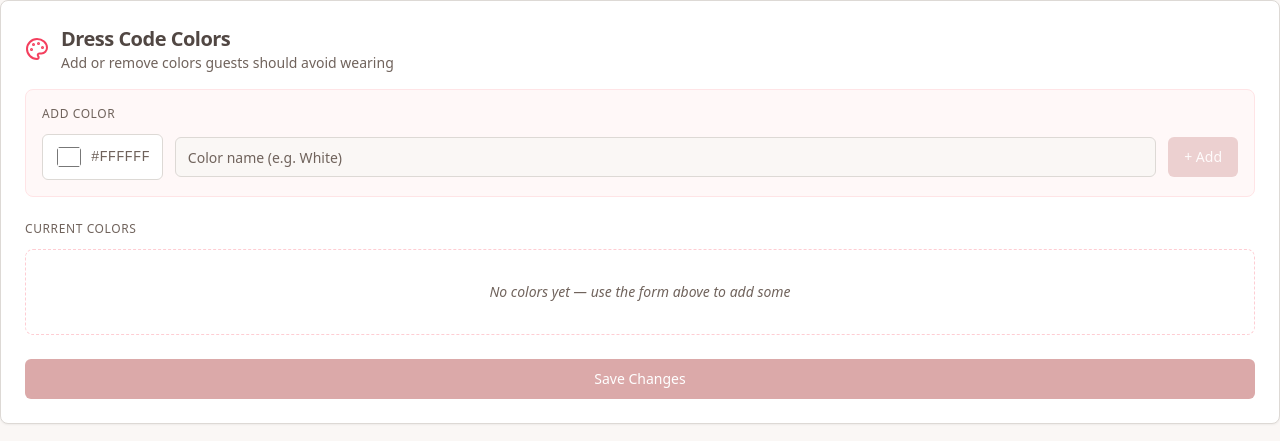
DressCodePage › enables Add button when label is typed
The width and height of the screenshot is (1280, 441).
Type "White" into the field with test id "input-new-label".
click(666, 157); type("White")  # box x1=175 y1=137 x2=1156 y2=177
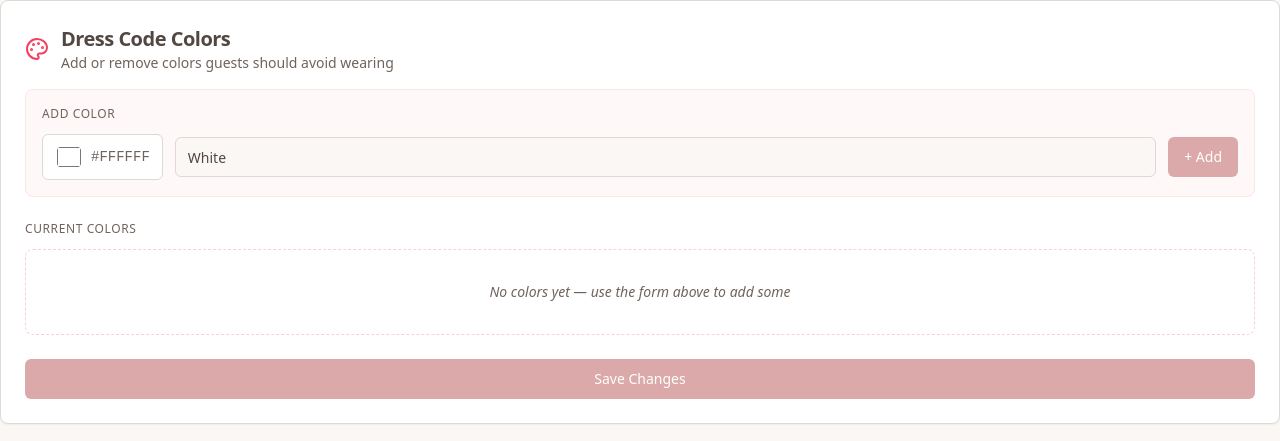
Check: the button with test id "button-add-color" is enabled, box x1=1168 y1=137 x2=1238 y2=177
